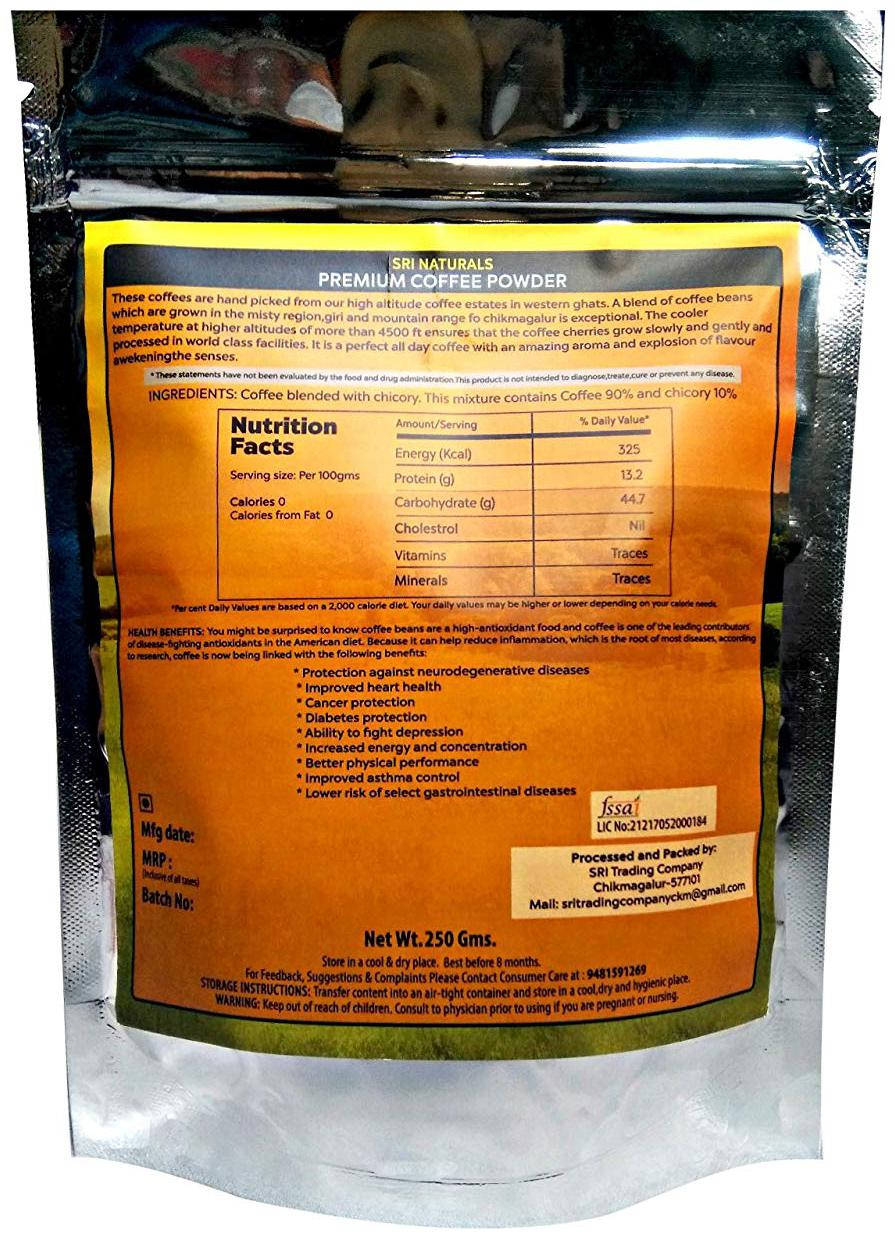fssai: (597, 794, 643, 818)
